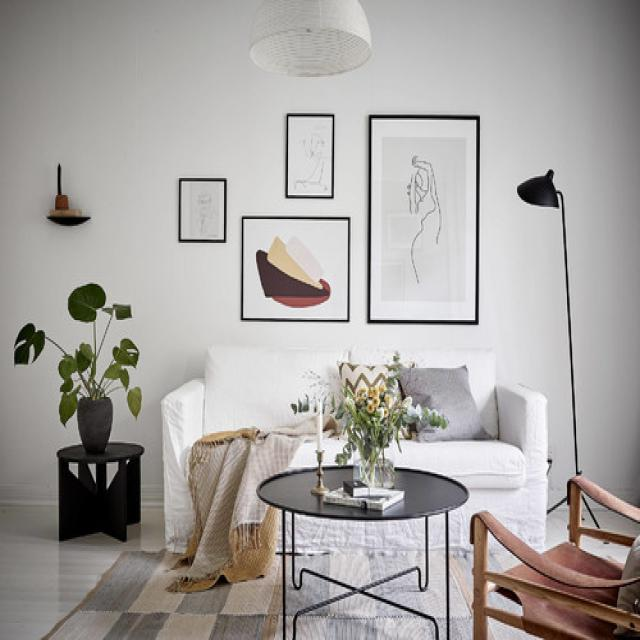white sofa: (177, 342, 540, 589)
